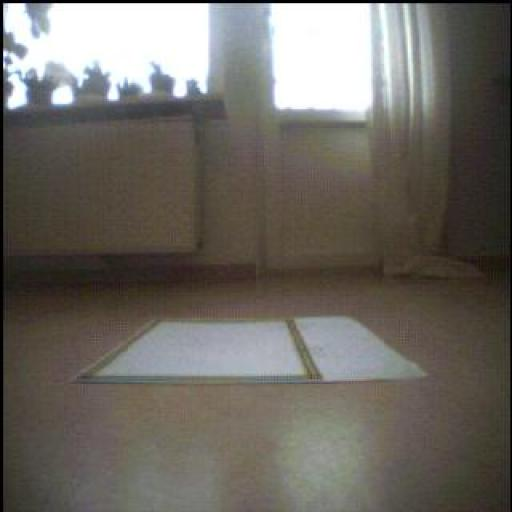Pad: (78, 318, 425, 385)
